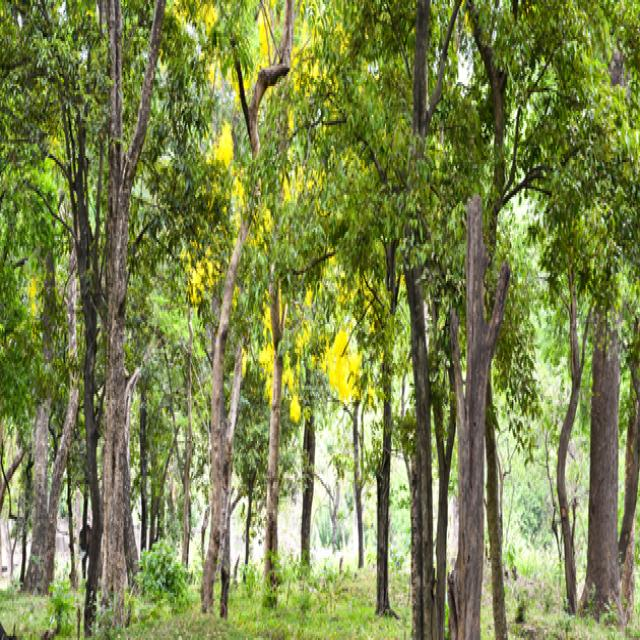Medicinal-Sandalwood: (314, 0, 516, 624), (25, 0, 168, 636), (517, 0, 640, 640), (168, 8, 288, 612)
